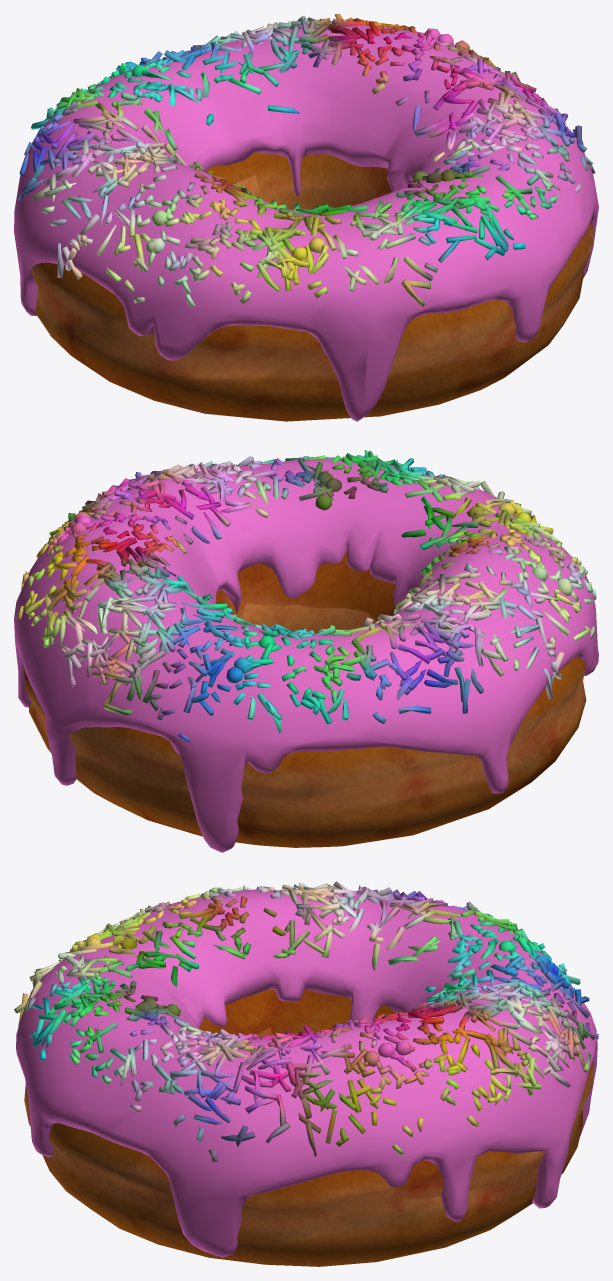
File: Donut_advanced.fbx
3 views of the same model, one above another, from view 1: azimuth 30°, elevation 25°; view 2: azimuth 150°, elevation 25°; view 3: azimuth 270°, elevation 25° (orthographic).
Parts seen in each view (by area): view 1: Koko_donitsi; view 2: Koko_donitsi; view 3: Koko_donitsi.
Part boxes in pixels (x1,y1,x2,y2): Koko_donitsi: (14,14,598,421); Koko_donitsi: (14,450,598,852); Koko_donitsi: (14,881,598,1266).
Bounding box in the file's own units: 0.0596 × 0.061 × 0.0262.
Materials: 1 (1 with a texture image).
